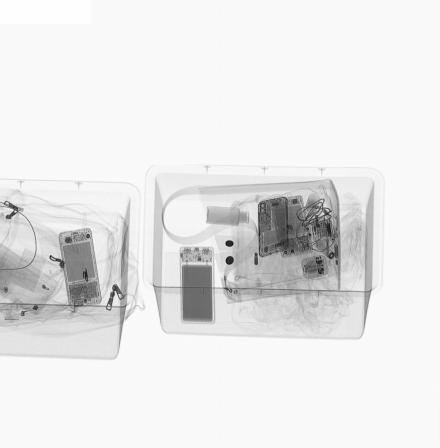Powerbank: (179, 247, 214, 325)
